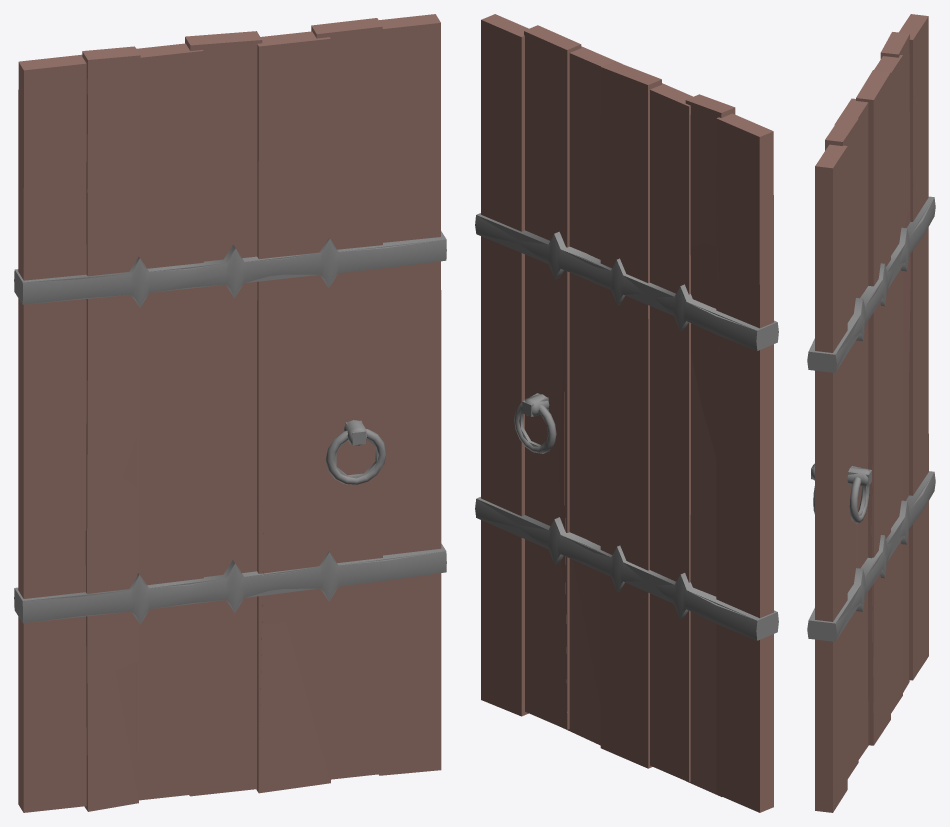
File: Wooden_Door_1.fbx
The picture shows the model from 3 angles, left to right: view 1: azimuth 30°, elevation 25°; view 2: azimuth 150°, elevation 25°; view 3: azimuth 270°, elevation 25°; orthographic projection. The views are drawn at different scales.
Visible parts, largest first — view 1: Wooden_Door_1_LOD0, Wooden_Door_1; view 2: Wooden_Door_1_LOD0, Wooden_Door_1; view 3: Wooden_Door_1_LOD0, Wooden_Door_1.
Boxes of the visible parts, x1,y1,x2,y2 form: Wooden_Door_1_LOD0: (14,14,445,812); Wooden_Door_1: (14,27,446,811); Wooden_Door_1_LOD0: (476,14,777,812); Wooden_Door_1: (475,100,778,745); Wooden_Door_1_LOD0: (808,14,934,812); Wooden_Door_1: (807,34,935,759).
Size of the model in its own units: 1.13 by 2.18 by 0.3909.
